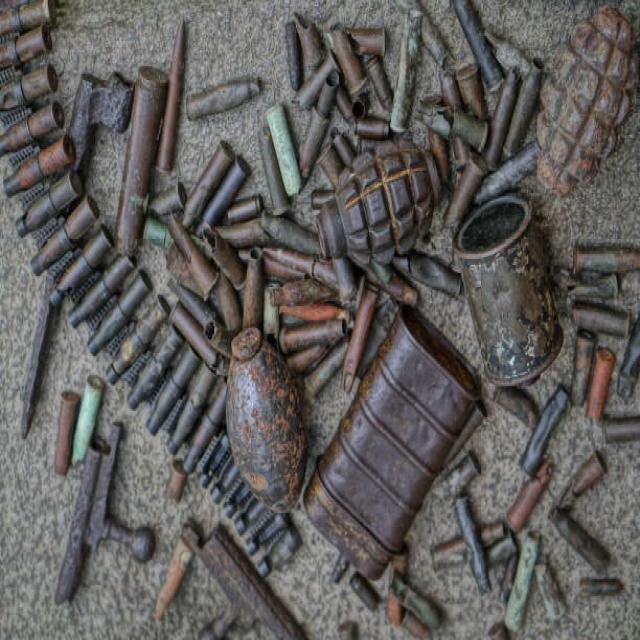grenade: (531, 4, 640, 202), (313, 144, 446, 270), (230, 324, 307, 520)
